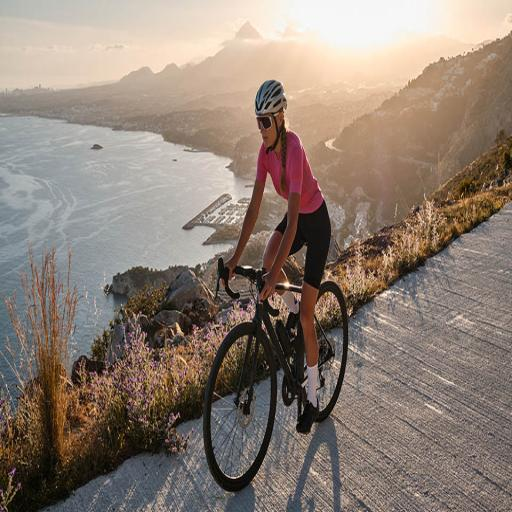bag: (196, 241, 351, 500)
laptop: (217, 76, 350, 438)
ramp: (10, 200, 511, 511)
